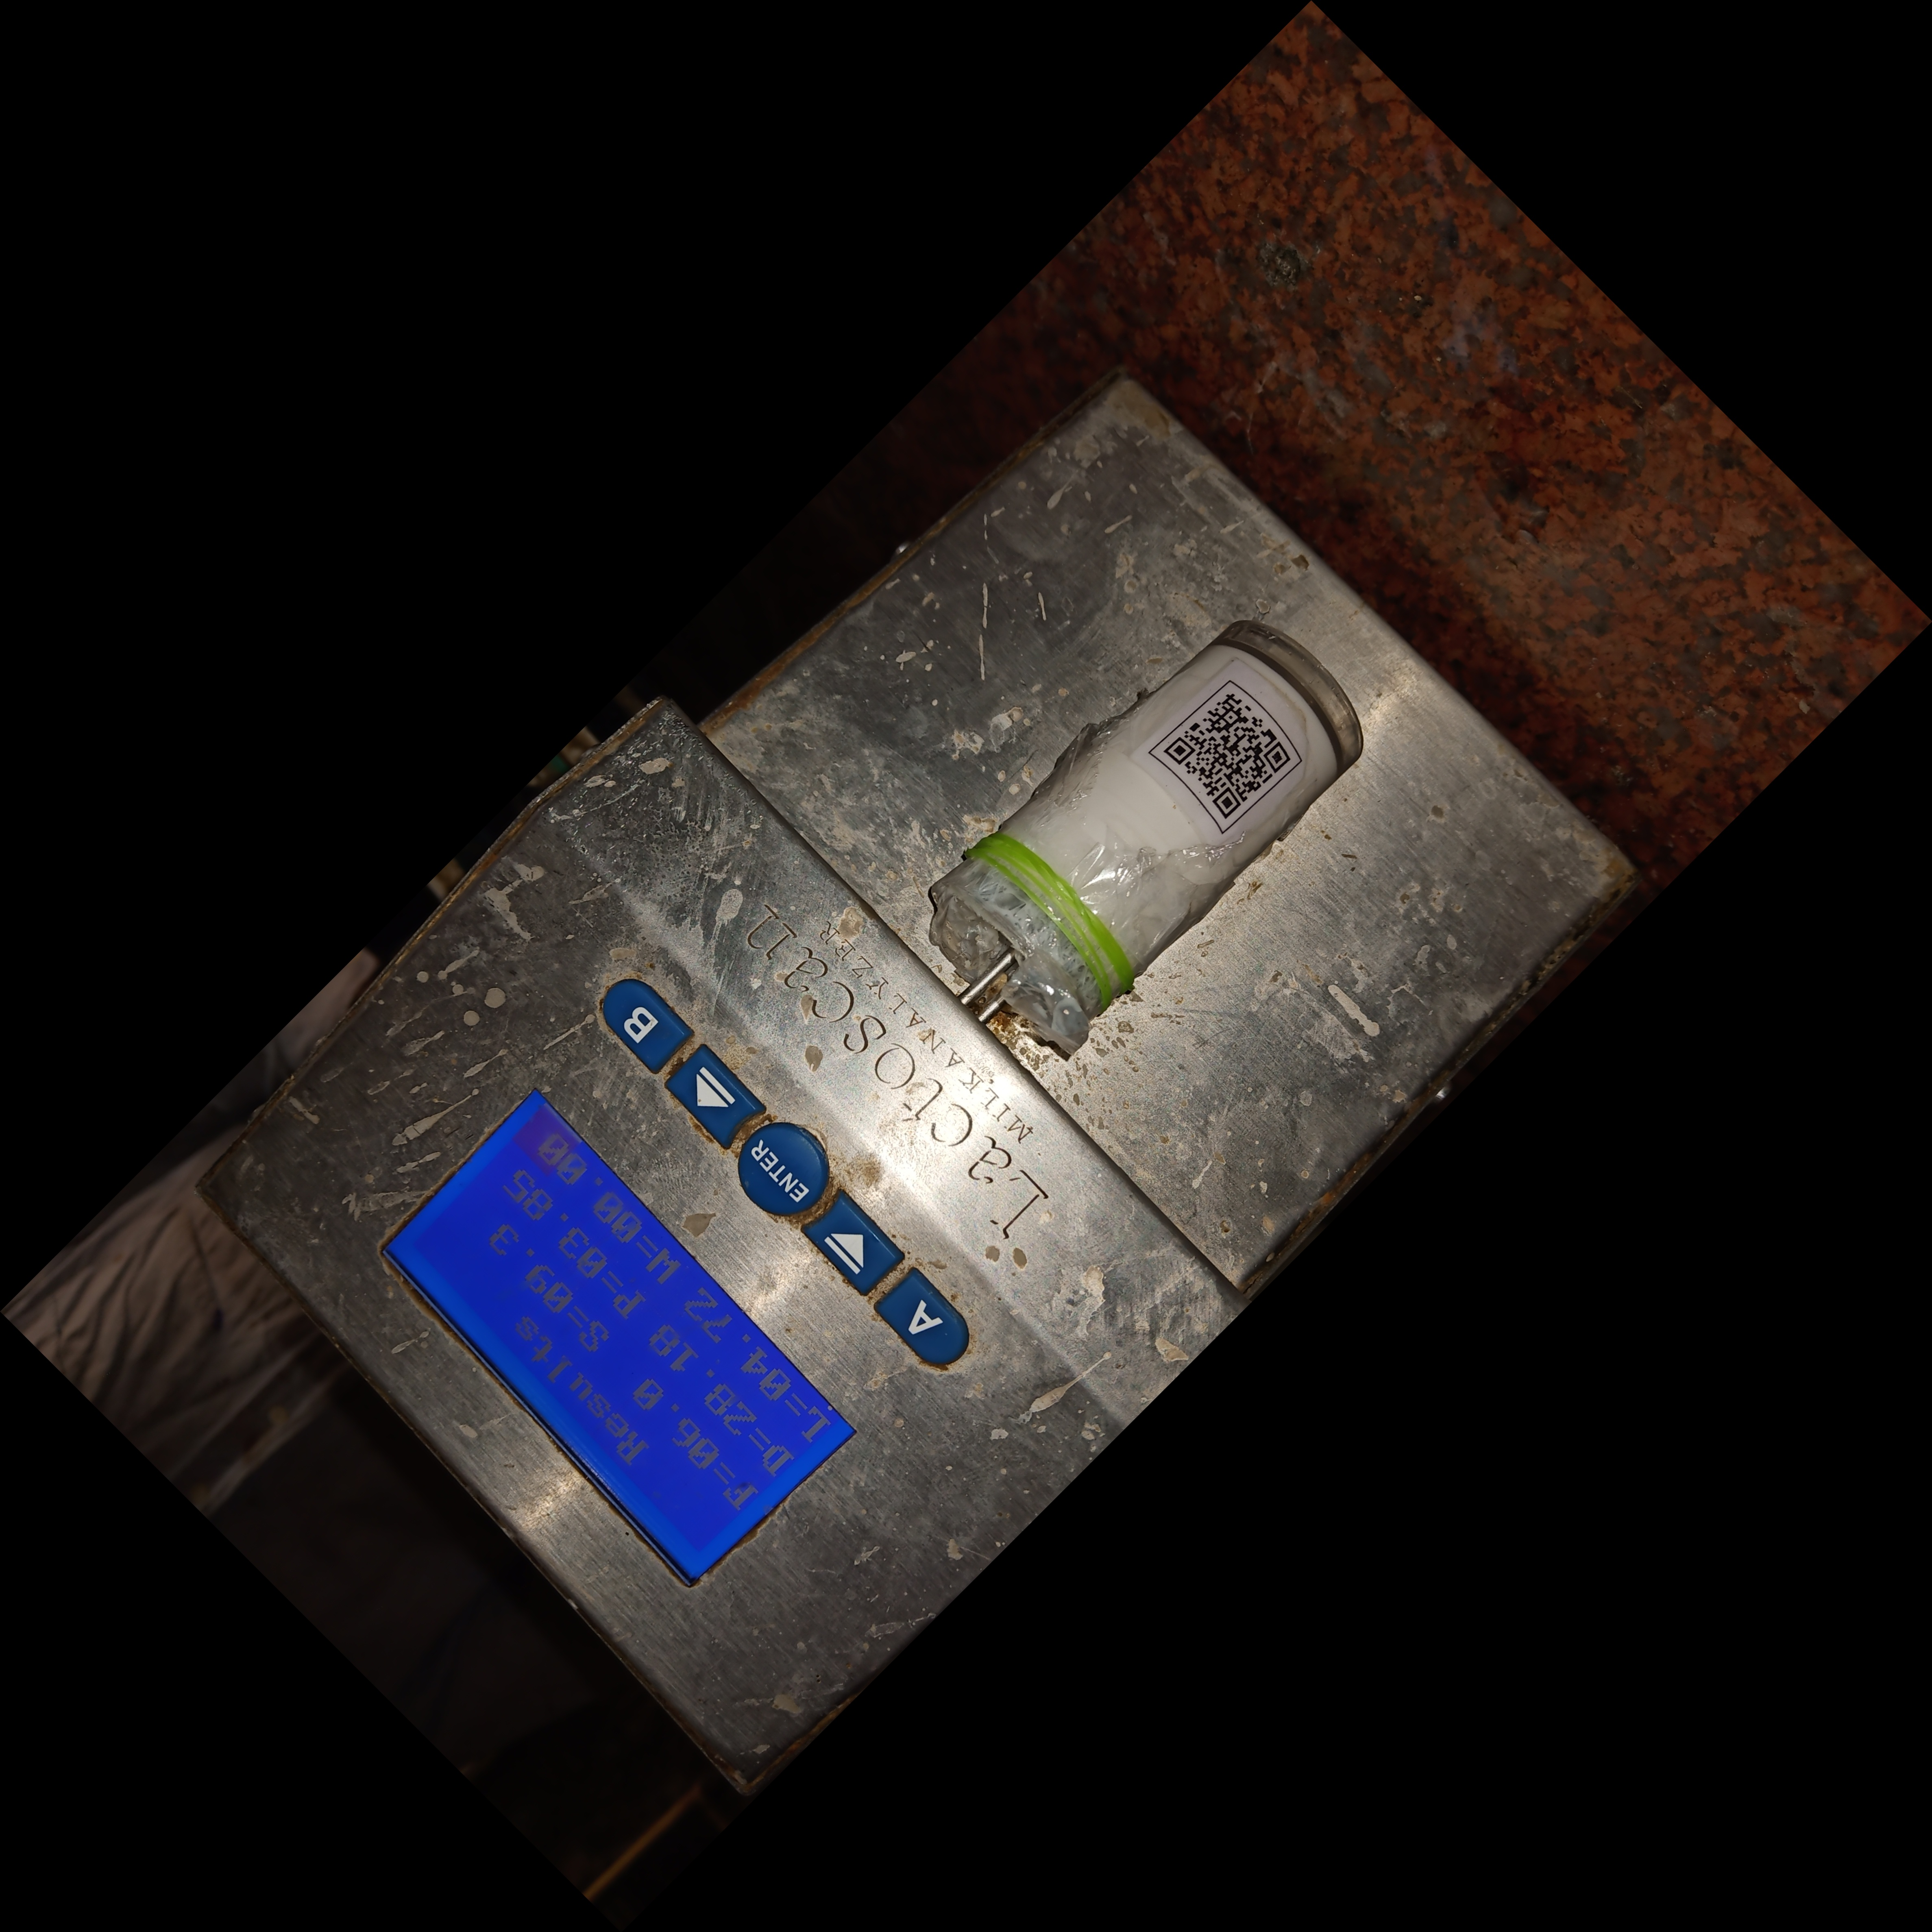lcd: (320, 1047, 863, 1633)
qr: (1136, 662, 1323, 837)
